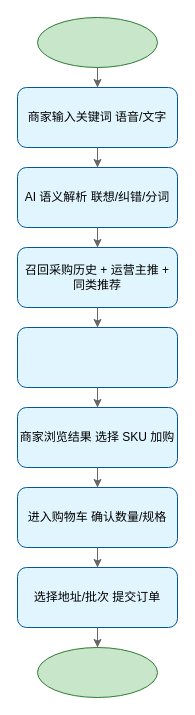
This 195x715 diagram has some shape labels left out. Each missing label, with the box of its shape:
完成: (36, 646, 158, 698)
开始: (36, 16, 158, 68)
智能排序 按优先级/频次/库存: (16, 326, 178, 388)
